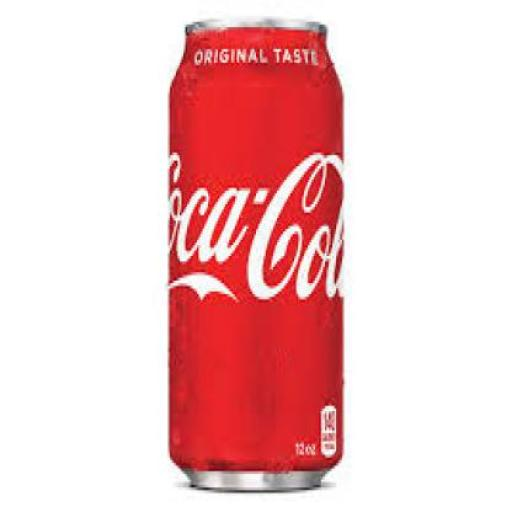metal: (168, 16, 342, 487)
